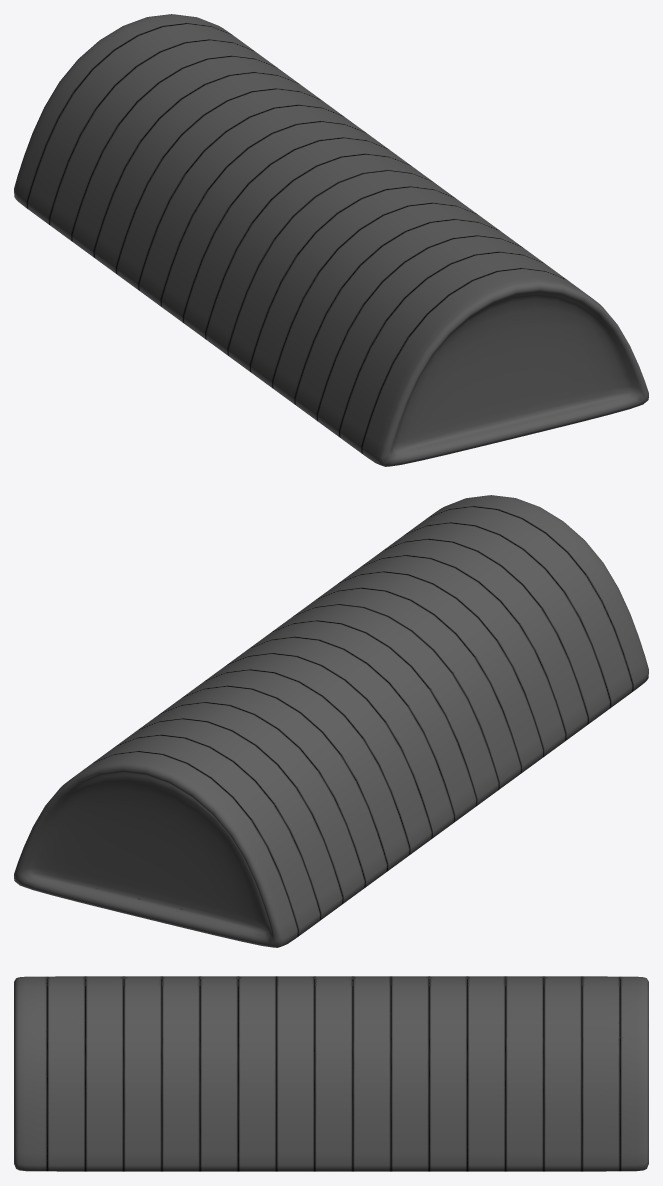
File: bunker_1.fbx
3 views of the same model, one above another, from view 1: azimuth 30°, elevation 25°; view 2: azimuth 150°, elevation 25°; view 3: azimuth 270°, elevation 25° (orthographic). The views are drawn at different scales.
Parts seen in each view (by area): view 1: Bunker; view 2: Bunker; view 3: Bunker.
Part boxes in pixels (bbox=[...]): Bunker: bbox=[14, 14, 648, 466]; Bunker: bbox=[14, 495, 648, 947]; Bunker: bbox=[14, 976, 648, 1171].
Size of the model in its own units: 459 by 252 by 1088.
Materials: 1 (1 with a texture image).
